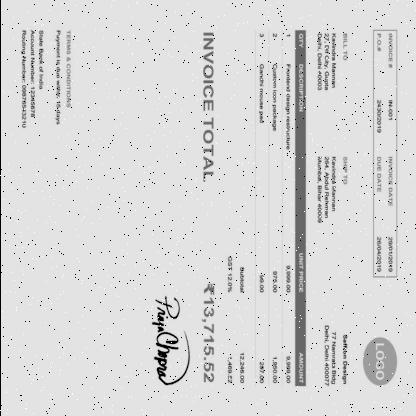Paragraph: (198, 27, 218, 388), (17, 26, 73, 132), (372, 30, 396, 277), (222, 251, 250, 387), (313, 151, 350, 227), (312, 29, 350, 95), (320, 322, 350, 389)
Table: (254, 30, 306, 386)
